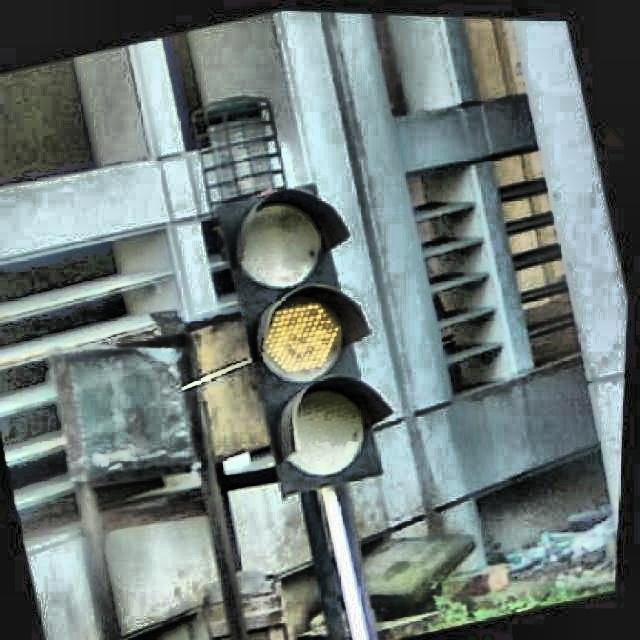yellow: (216, 194, 389, 481)
